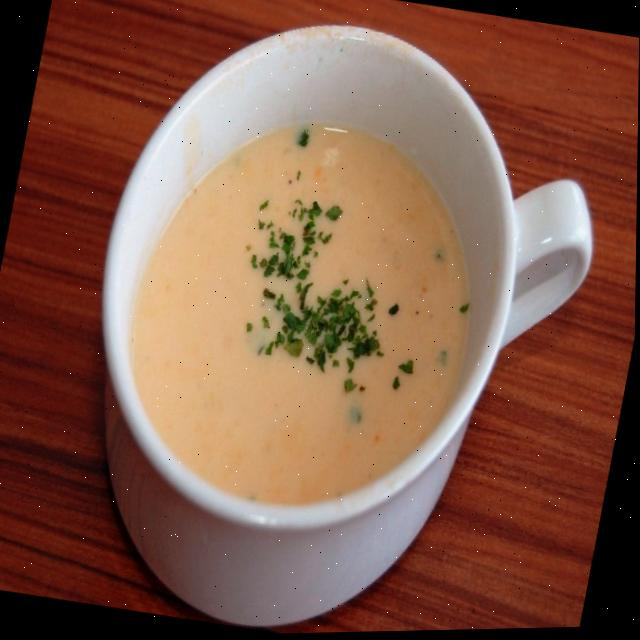汤锅炖物: (40, 0, 637, 639)
